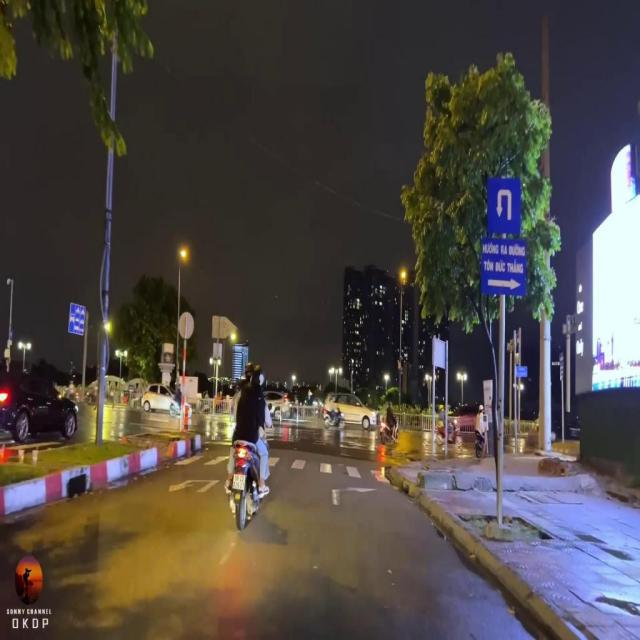cho_quay_xe: (488, 178, 520, 236)
khac: (482, 236, 526, 295)
lan_duong_cho_tung_xe_theo_vach_ke_duong: (68, 303, 86, 336)
